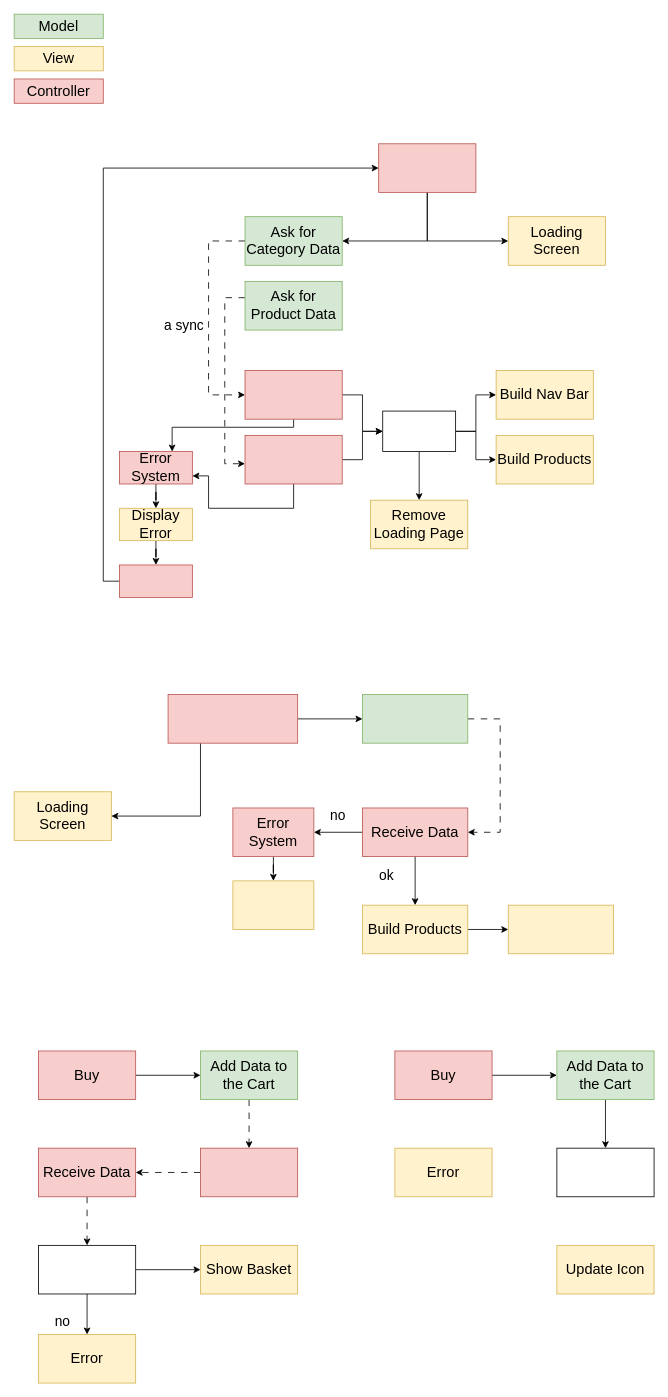
The diagram is 668 pixels wide and 1397 high, and some of its shapes have lost their labels. Here are the shapes that lost their labels. From the top down, the centre of each, then its label:
At point (427, 167): "Entry Point".
At point (293, 394): "Receive Category Data".
At point (419, 431): "All Data Read".
At point (293, 459): "Receive Product Data".
At point (155, 580): "Reload Page".
At point (232, 718): "User Interaction Click on menu".
At point (415, 718): "Ask for Products".
At point (273, 904): "Show Error".
At point (560, 929): "Clear Landing page".
At point (249, 1172): "Remember the Data".
At point (605, 1172): "Data ok".
At point (87, 1269): "We have the Data".
